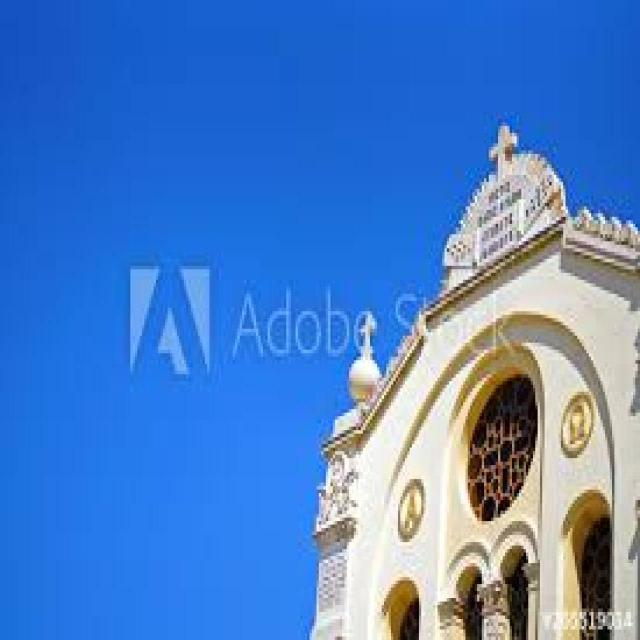Agios Minas: (313, 120, 640, 640)
